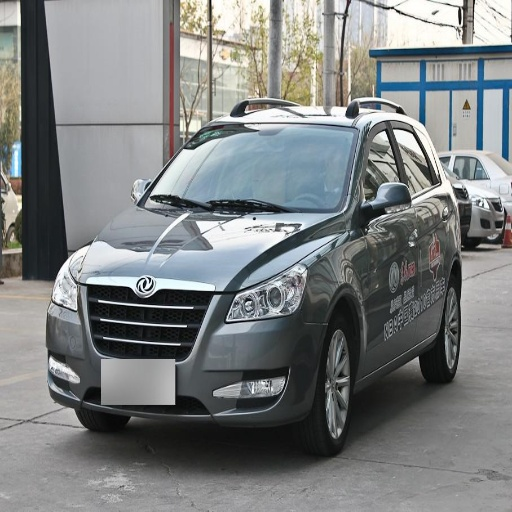front_bumper: (48, 274, 325, 427)
front_glass: (138, 122, 357, 215)
front_left_door: (358, 116, 417, 373)
